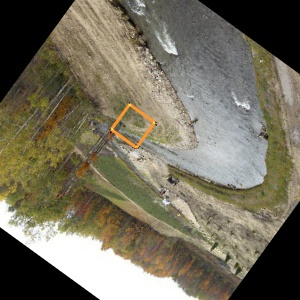square: (109, 102, 156, 149)
